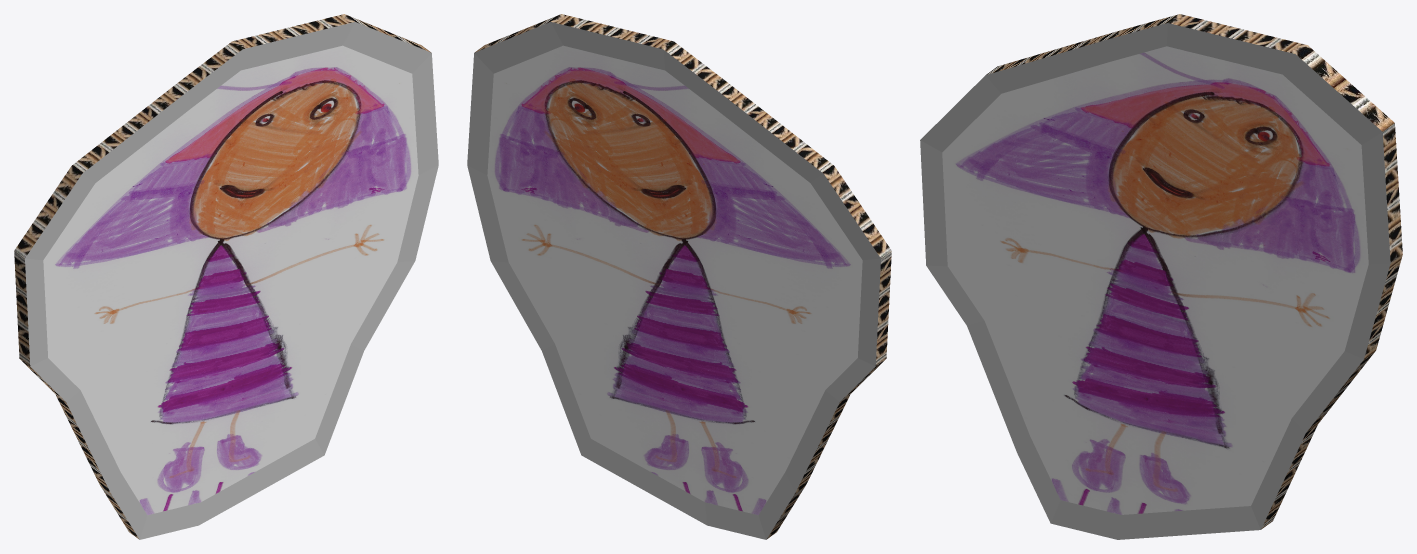
The model's file is Fanni.fbx.
3 views of the same model, side by side, from view 1: azimuth 30°, elevation 25°; view 2: azimuth 150°, elevation 25°; view 3: azimuth 330°, elevation 25° (orthographic). The views are drawn at different scales.
Visible parts, largest first — view 1: Plane; view 2: Plane; view 3: Plane.
Part boxes in pixels (box(x1,y1,x2,y2)): Plane: box(14, 14, 438, 539); Plane: box(467, 14, 891, 539); Plane: box(920, 14, 1402, 539).
Size of the model in its own units: 205 by 221 by 9.24.
